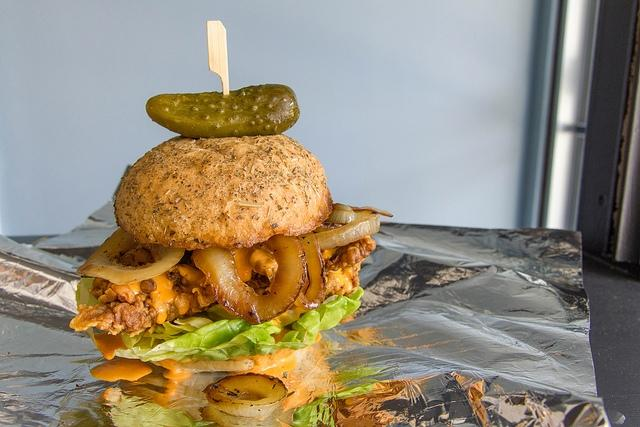lettuce: (132, 318, 308, 363), (297, 295, 361, 346), (76, 277, 102, 308), (162, 324, 184, 336)
onion: (192, 233, 306, 326), (75, 227, 186, 284), (202, 372, 288, 418), (294, 230, 327, 311), (315, 210, 380, 251)
